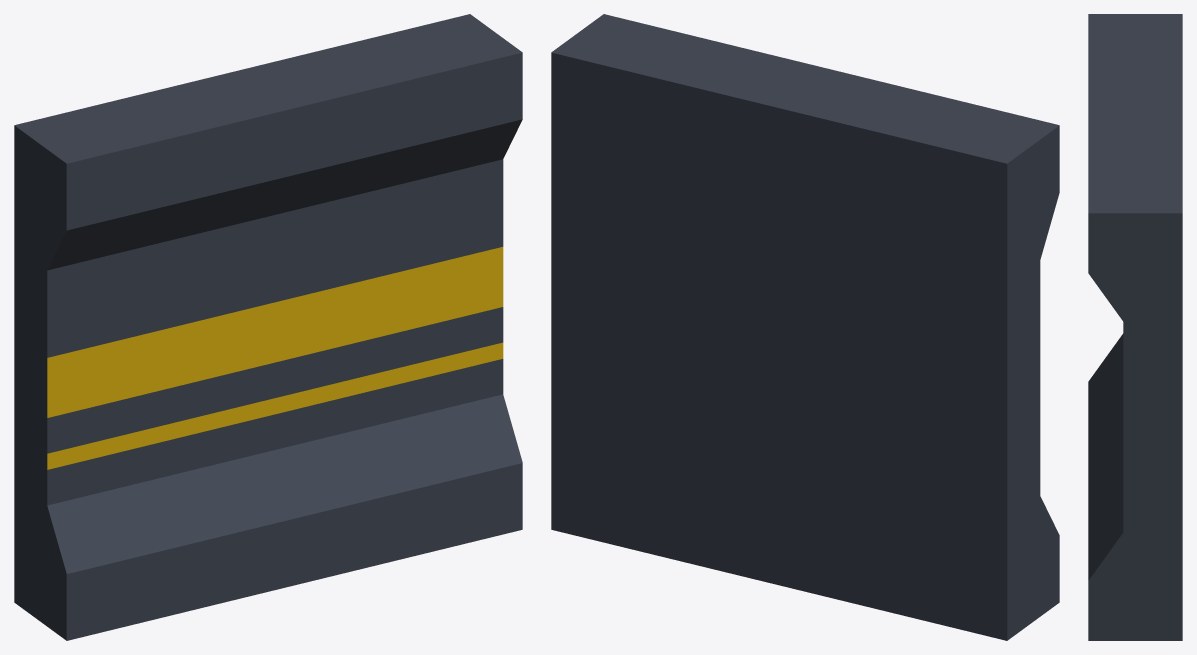
Rendered from Sci-fi_wall_straight02.fbx.
The picture shows the model from 3 angles, left to right: view 1: azimuth 30°, elevation 25°; view 2: azimuth 150°, elevation 25°; view 3: azimuth 270°, elevation 25°; orthographic projection. The views are drawn at different scales.
Parts seen in each view (by area): view 1: Sci-fi_wall.006; view 2: Sci-fi_wall.006; view 3: Sci-fi_wall.006.
Part boxes in pixels (x1,y1,x2,y2): Sci-fi_wall.006: (14, 14, 522, 640); Sci-fi_wall.006: (551, 14, 1059, 640); Sci-fi_wall.006: (1088, 14, 1182, 640).
Bounding box in the file's own units: 2 × 2 × 0.4.
